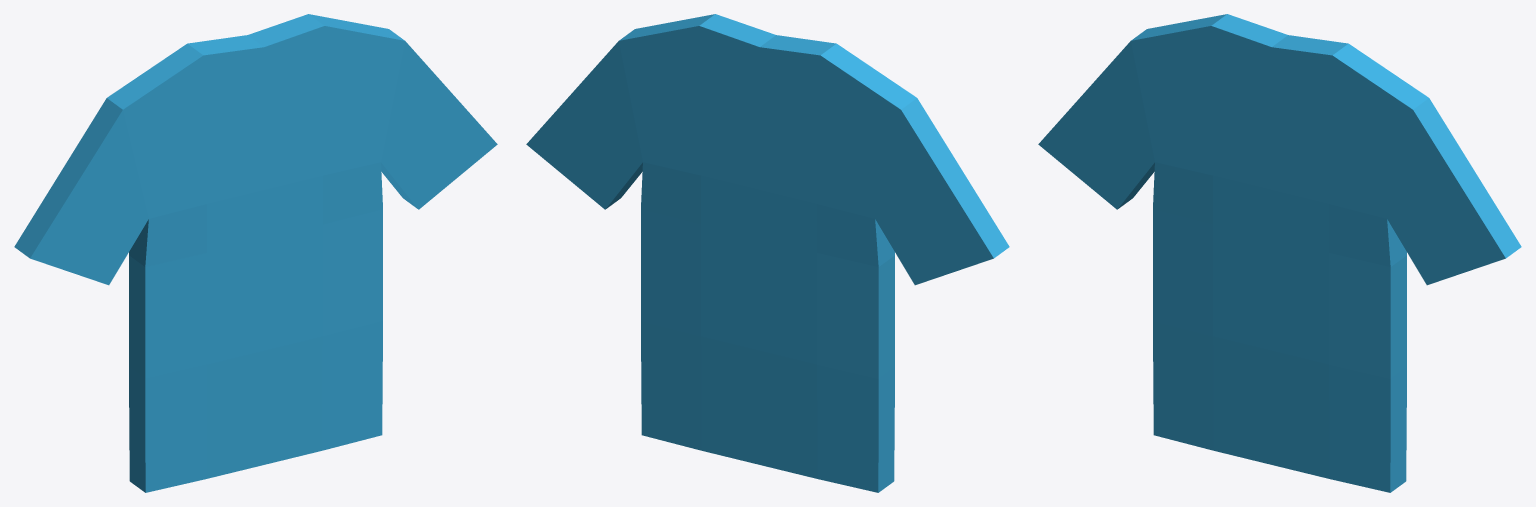
Rendered from Shirt_1.fbx.
3 renders of one model, left to right at view 1: azimuth 30°, elevation 25°; view 2: azimuth 150°, elevation 25°; view 3: azimuth 330°, elevation 25°, orthographic.
Parts seen in each view (by area): view 1: Plane; view 2: Plane; view 3: Plane.
Boxes of the visible parts, box(x1,y1,x2,y2) form: Plane: box(14, 14, 497, 492); Plane: box(526, 14, 1009, 492); Plane: box(1038, 14, 1521, 492).
Size of the model in its own units: 161 by 139 by 10.68.
